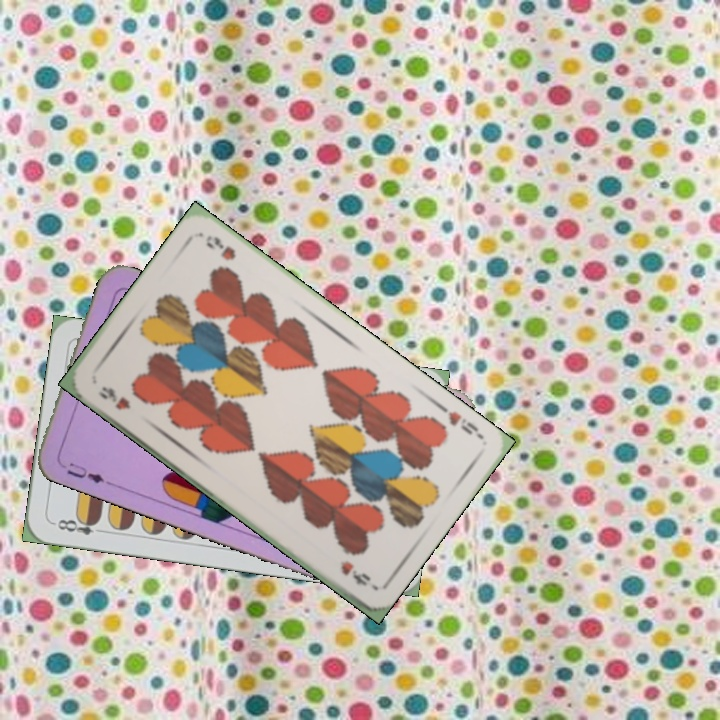E8: (49, 513, 108, 538)
EU: (55, 458, 112, 488)
H9: (434, 400, 481, 438), (94, 382, 133, 413)
